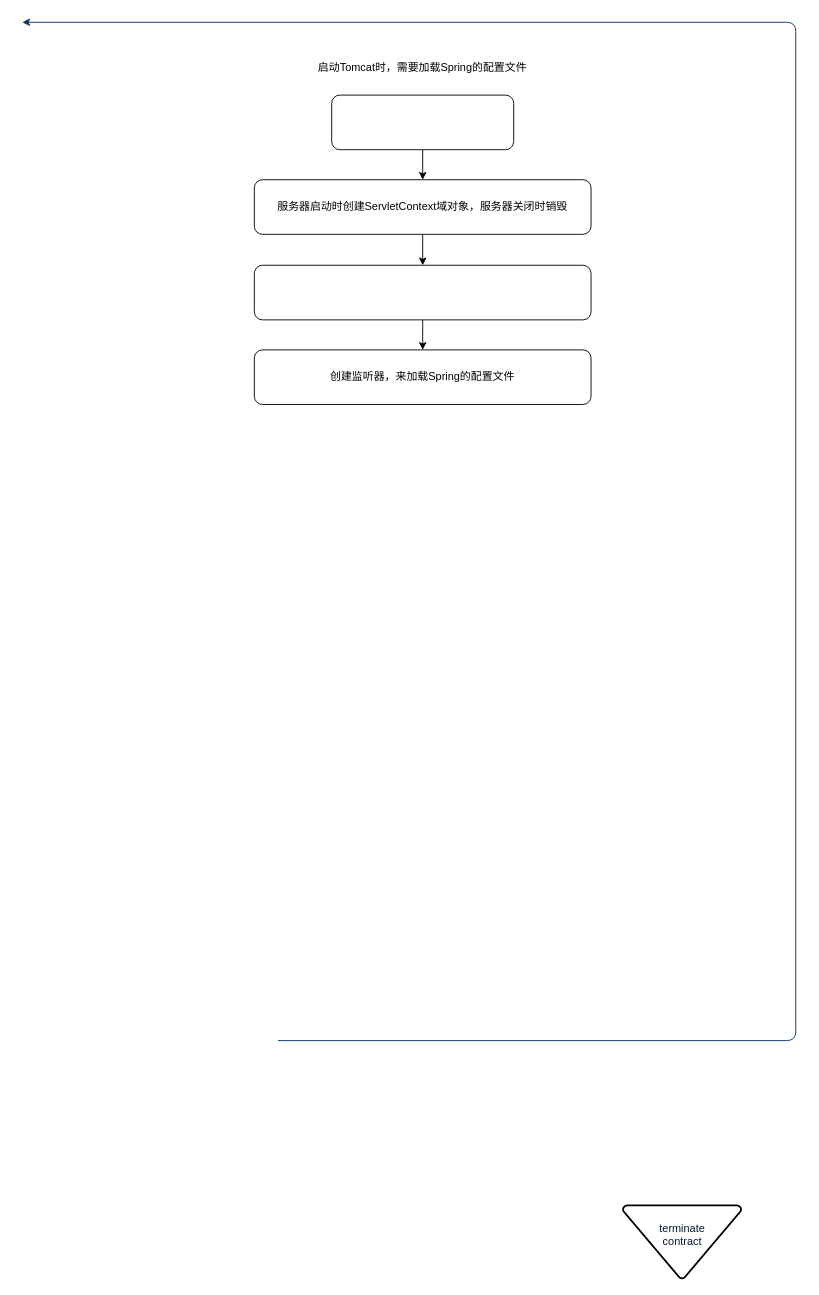
This 819x1295 diagram has some shape labels left out. The shapes that lost their labels are listed below. From the top down, each one's centre as x and y in pixels, then its label:
point 422,122: ServletContext域对象
point 422,292: 有一类监听器，用于监听 ServletContext域对象创建和销毁
